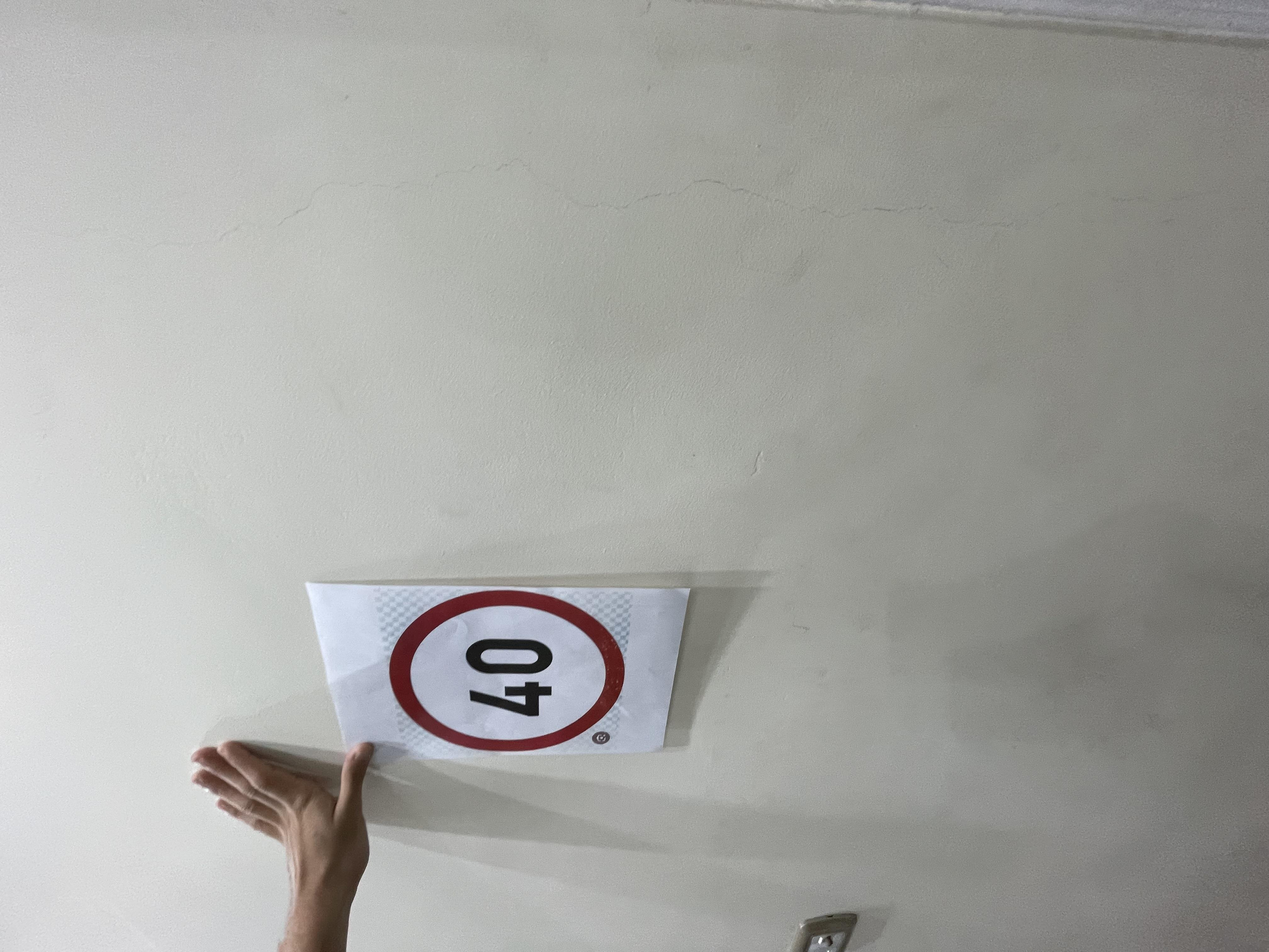40-Speed: (263, 292, 484, 470)
